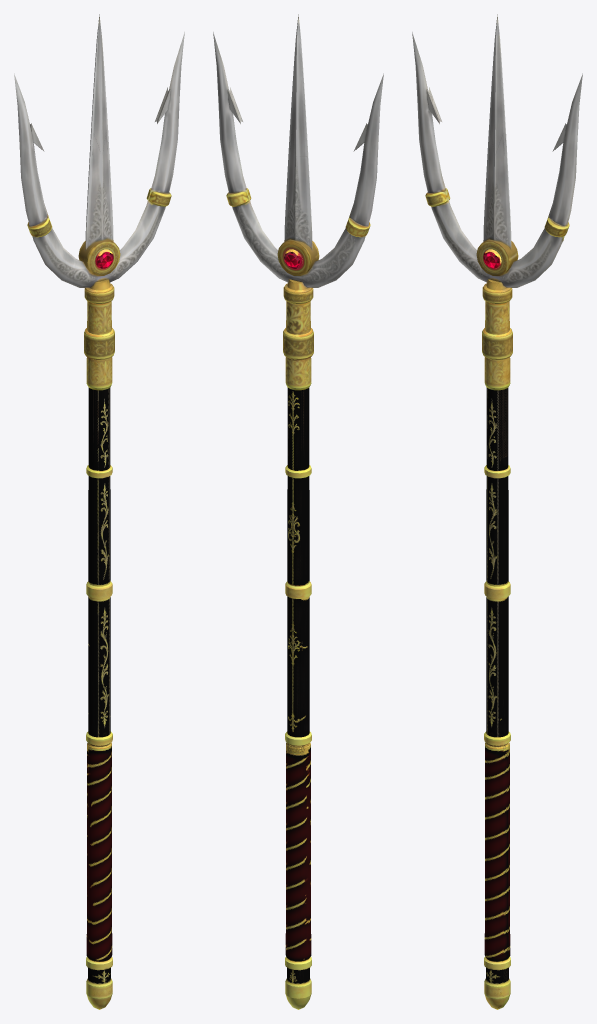
Rendered from w_trident_t3.glb.
3 views of the same model, side by side, from view 1: azimuth 30°, elevation 25°; view 2: azimuth 150°, elevation 25°; view 3: azimuth 330°, elevation 25° (orthographic).
Visible parts, largest first — view 1: w_trident; view 2: w_trident; view 3: w_trident.
Part boxes in pixels (x1,y1,x2,y2): w_trident: (14, 14, 184, 1009); w_trident: (213, 14, 383, 1009); w_trident: (412, 14, 582, 1009).
Bounding box in the file's own units: 21.2 × 118 × 3.24.
1 material, 1 textured.
